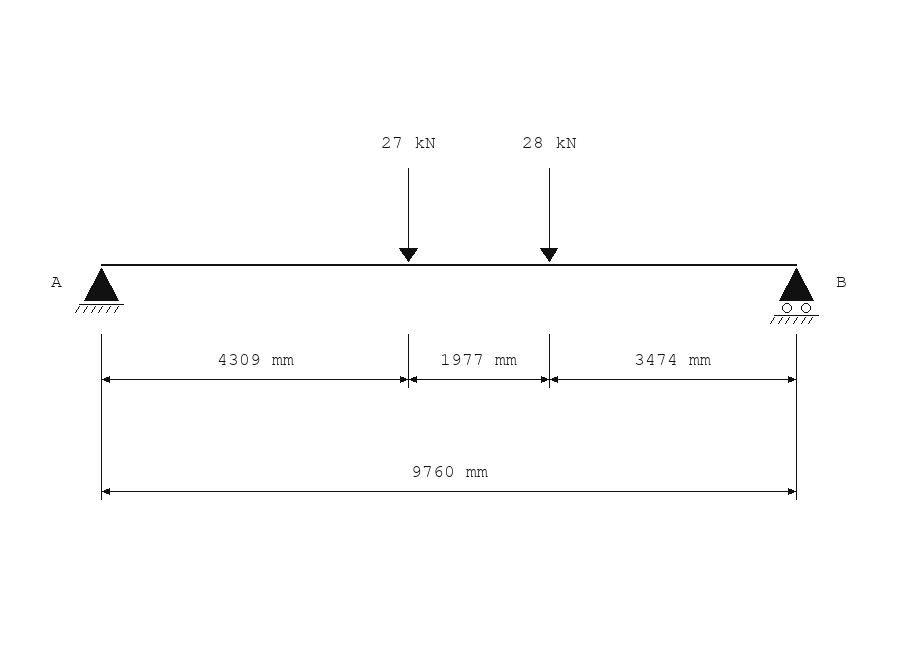pin_support: (75, 268, 124, 313)
point_load: (399, 168, 418, 262), (540, 168, 558, 262)
roller_support: (770, 268, 819, 324)
